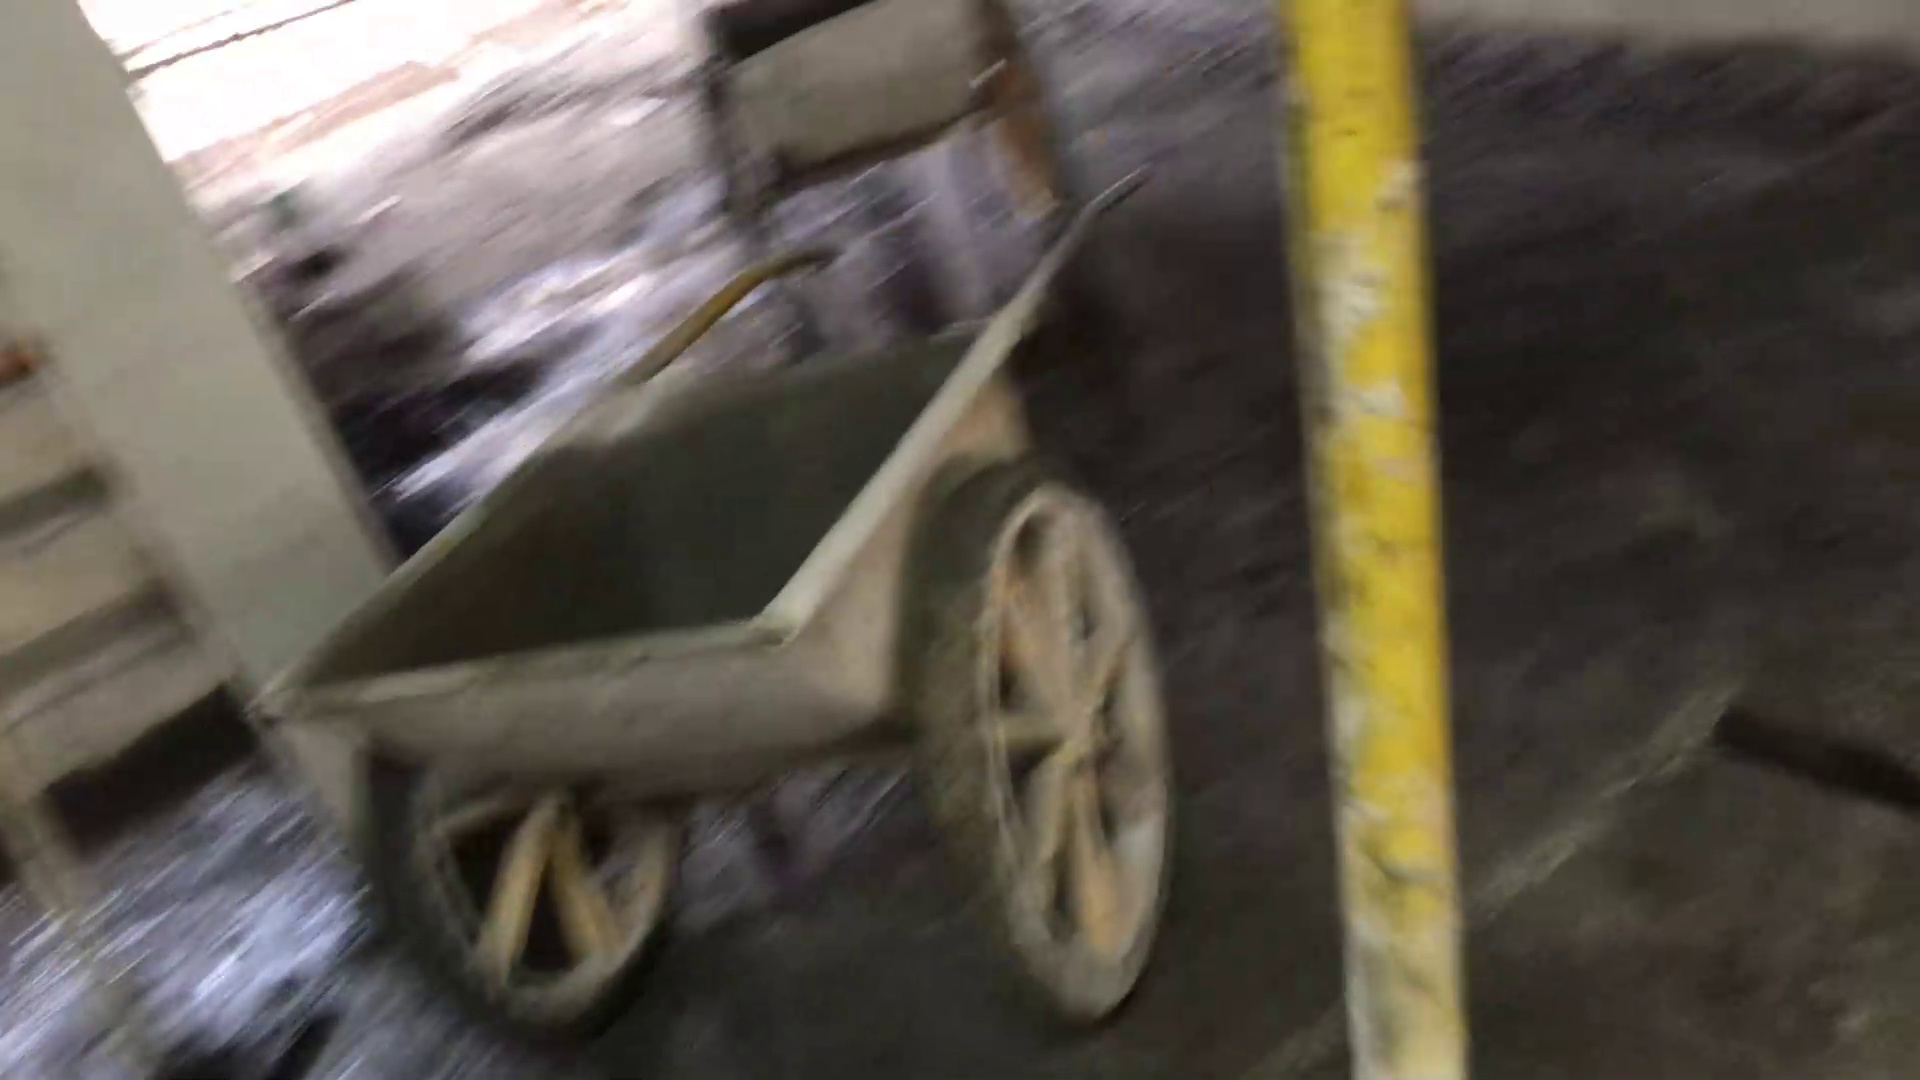handcart: (227, 158, 1179, 1017), (655, 7, 1100, 241)
